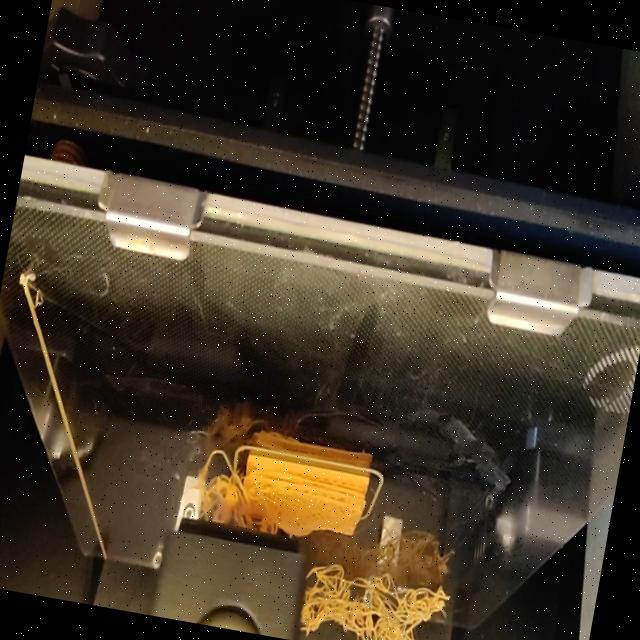spaghetti: (291, 553, 456, 640)
